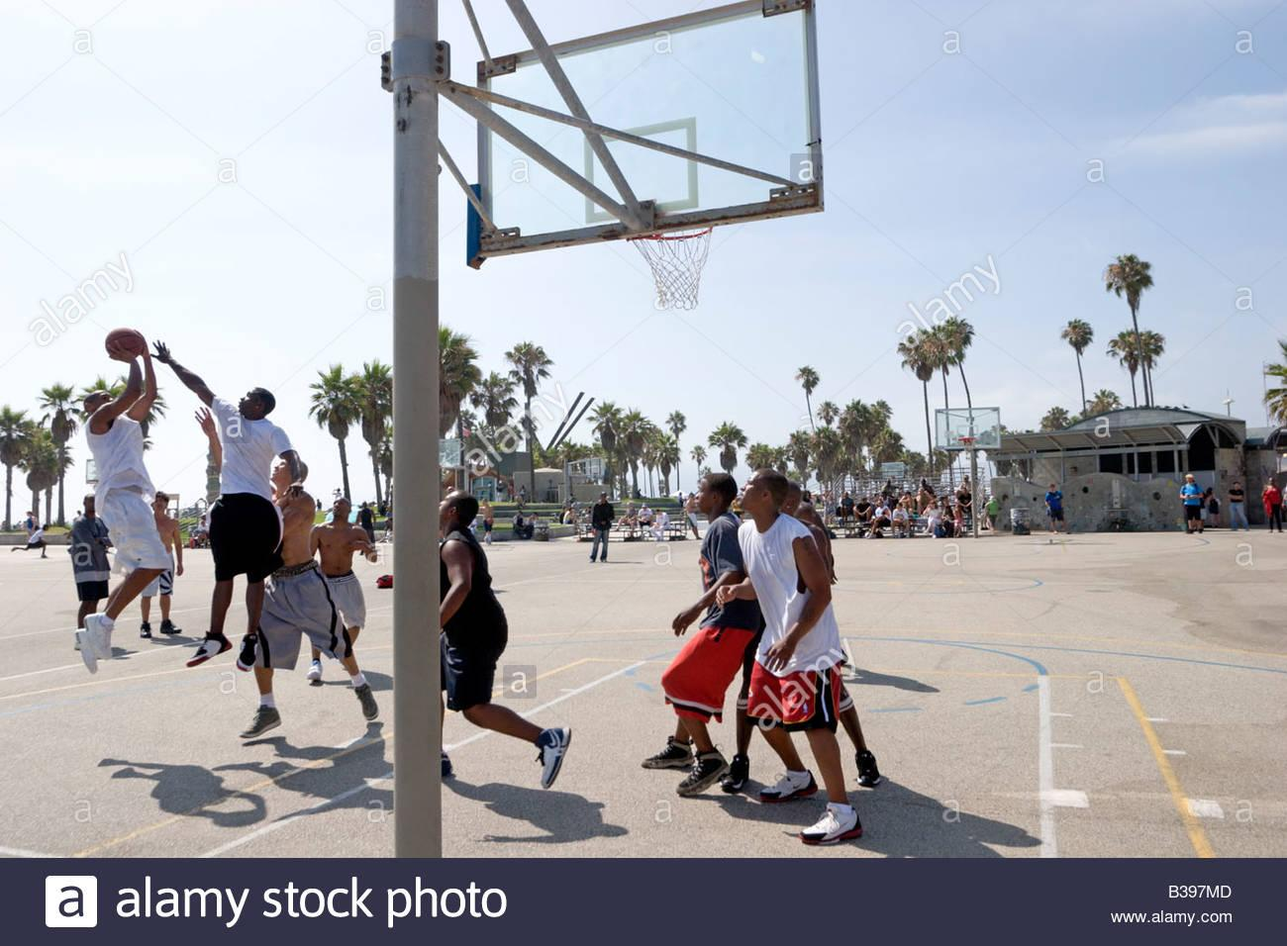basketball: (102, 325, 151, 363)
